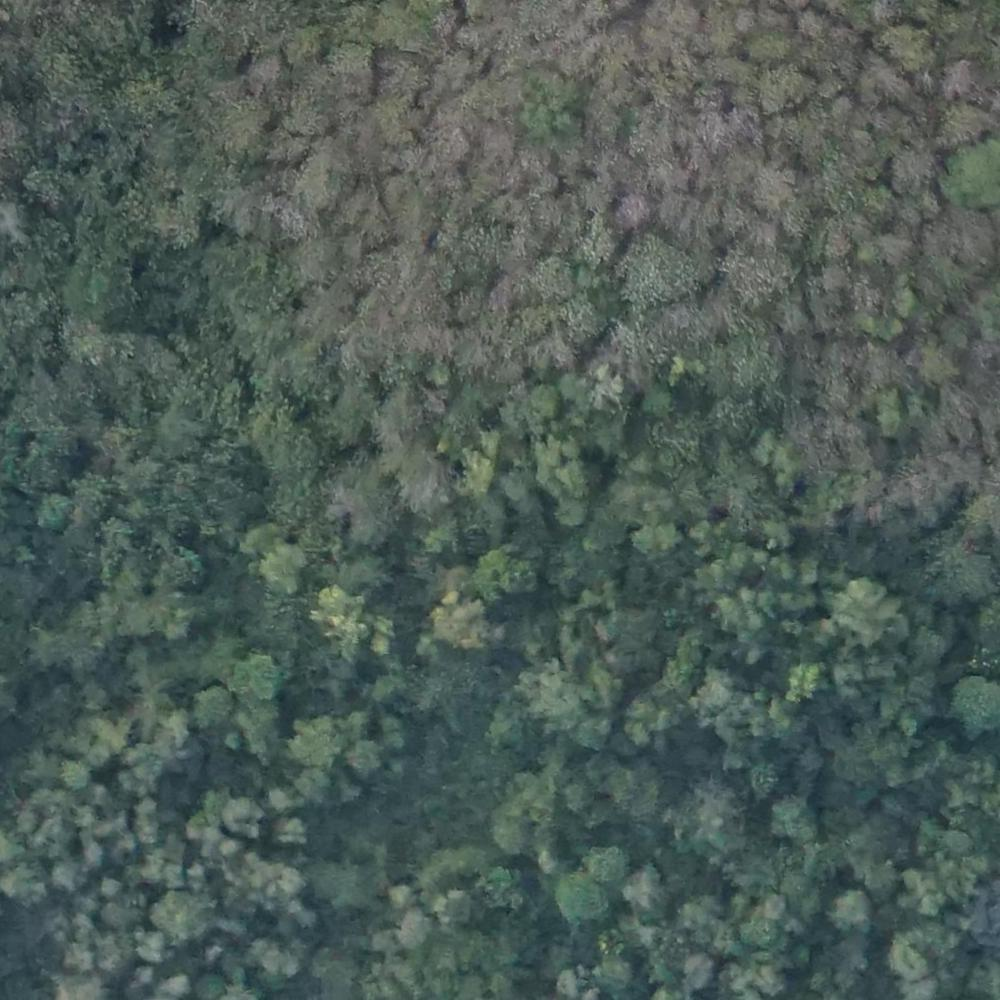tree: (510, 77, 593, 148), (613, 235, 693, 302), (829, 576, 892, 643), (281, 712, 346, 773), (936, 546, 995, 612), (944, 138, 1000, 206), (532, 438, 594, 499), (695, 788, 749, 857), (257, 539, 315, 603), (437, 597, 498, 655), (554, 867, 608, 928), (948, 677, 1000, 736), (315, 588, 368, 644), (697, 678, 746, 736), (158, 548, 211, 601), (296, 142, 352, 191), (530, 669, 581, 722), (155, 889, 208, 938), (885, 25, 939, 71), (478, 549, 531, 595), (235, 650, 282, 700), (377, 670, 425, 718), (772, 794, 819, 843), (894, 928, 942, 975), (508, 768, 554, 815), (720, 586, 759, 640), (625, 871, 667, 917), (431, 113, 473, 158), (263, 861, 301, 910), (533, 255, 574, 299), (39, 492, 77, 534), (399, 909, 436, 952), (632, 516, 667, 559), (222, 793, 258, 831), (904, 863, 942, 899), (833, 892, 869, 927), (125, 739, 159, 776), (590, 845, 623, 879), (53, 757, 88, 788)
